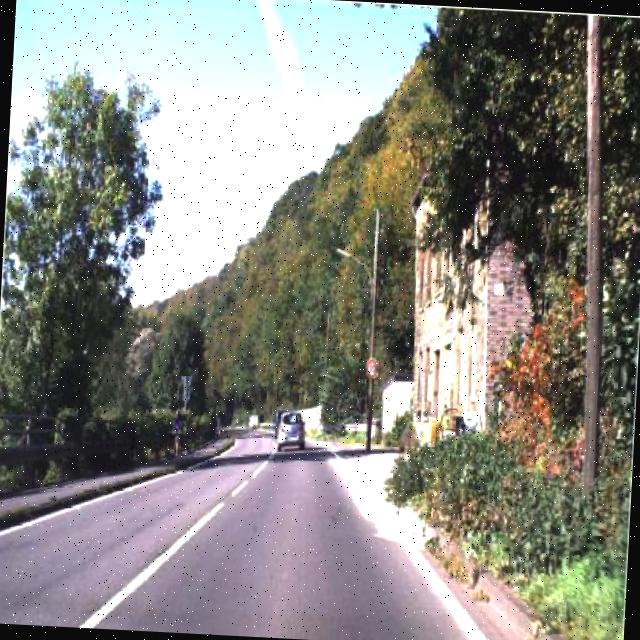Ograniczenie predkosci do 70: (364, 352, 381, 384)
